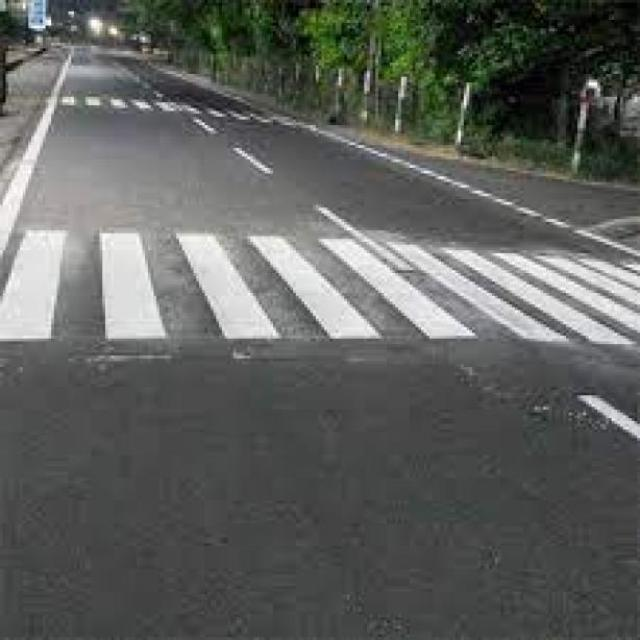pedestrian lane: (0, 233, 639, 341)
